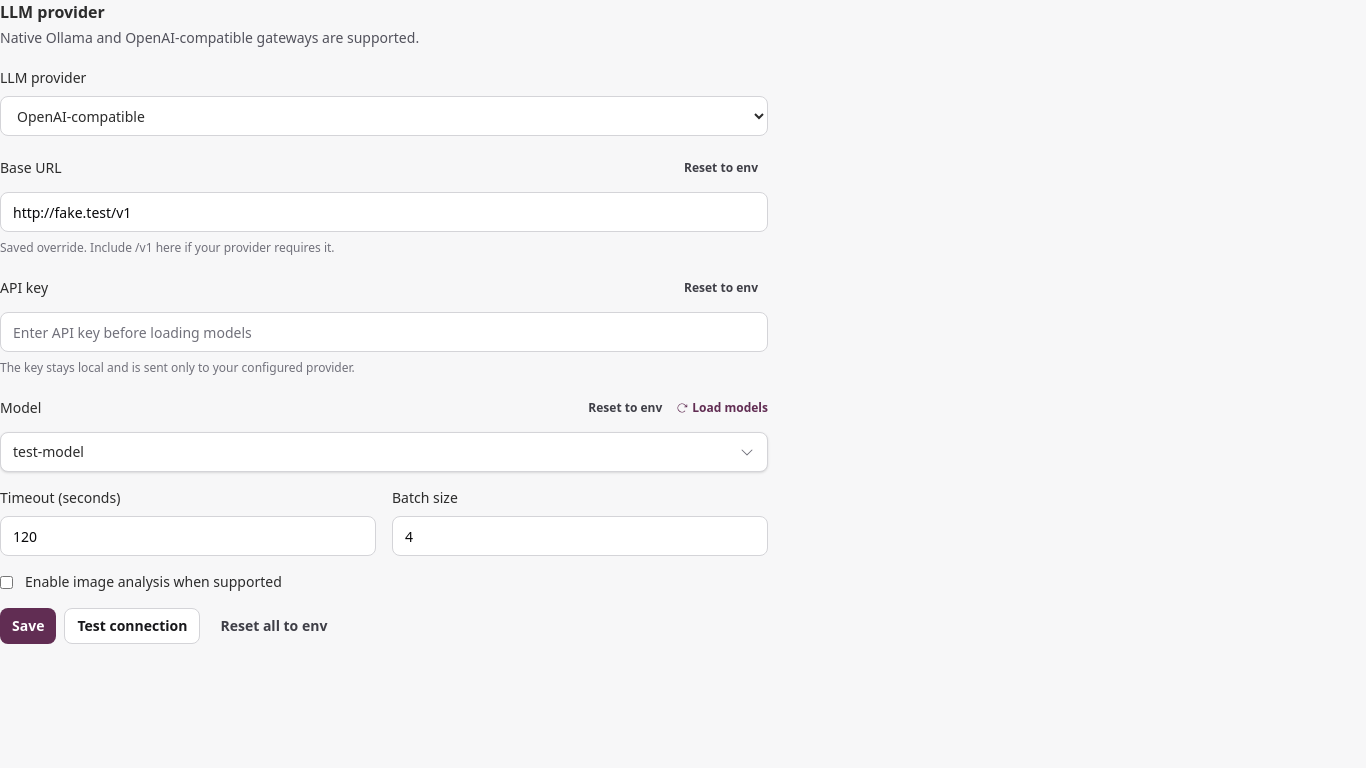
redesigned dashboard interactions (isolated, no live APIs) › shows failed checks and retry, and rejects an HTTP-success response without pong
Click the button "Test connection".
click(132, 626)  # box [64,608,200,644]
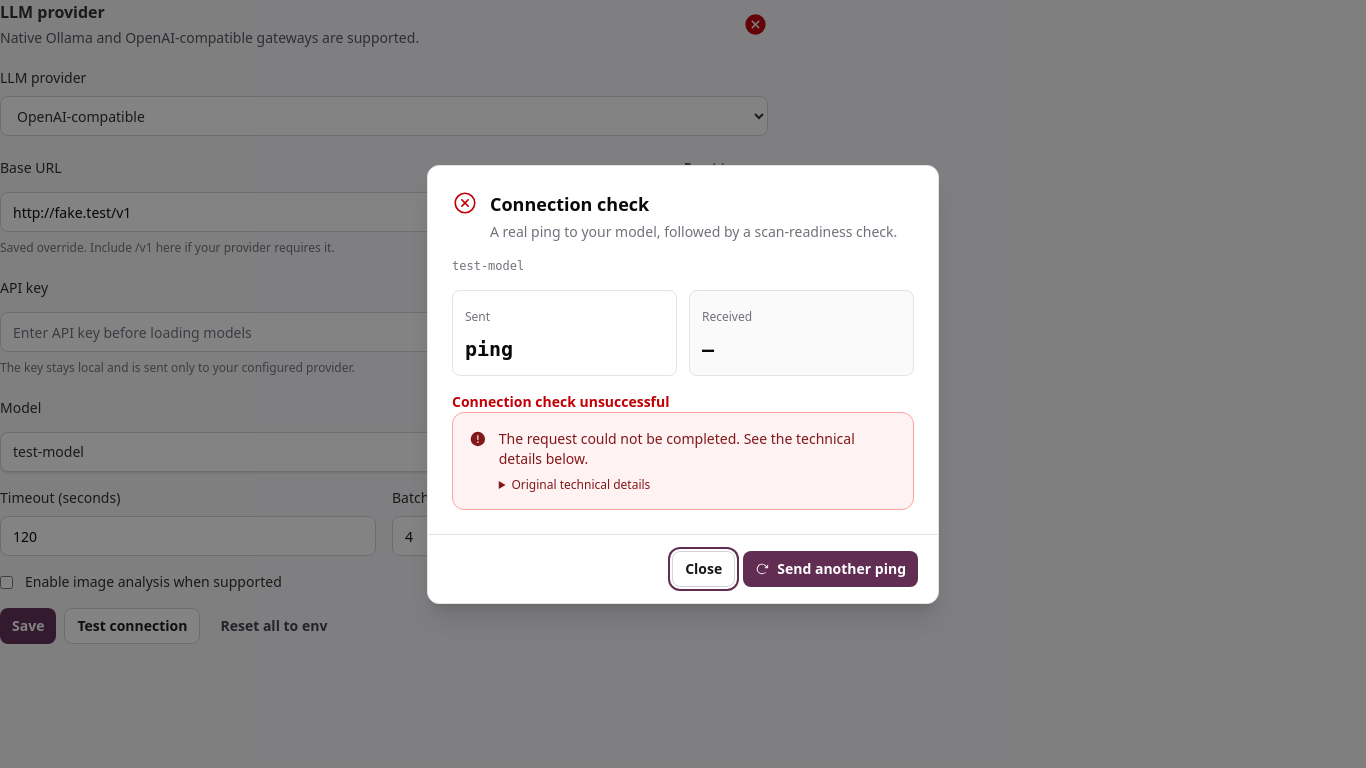
Click the button "Send another ping".
click(831, 568)  # box [743,550,918,586]
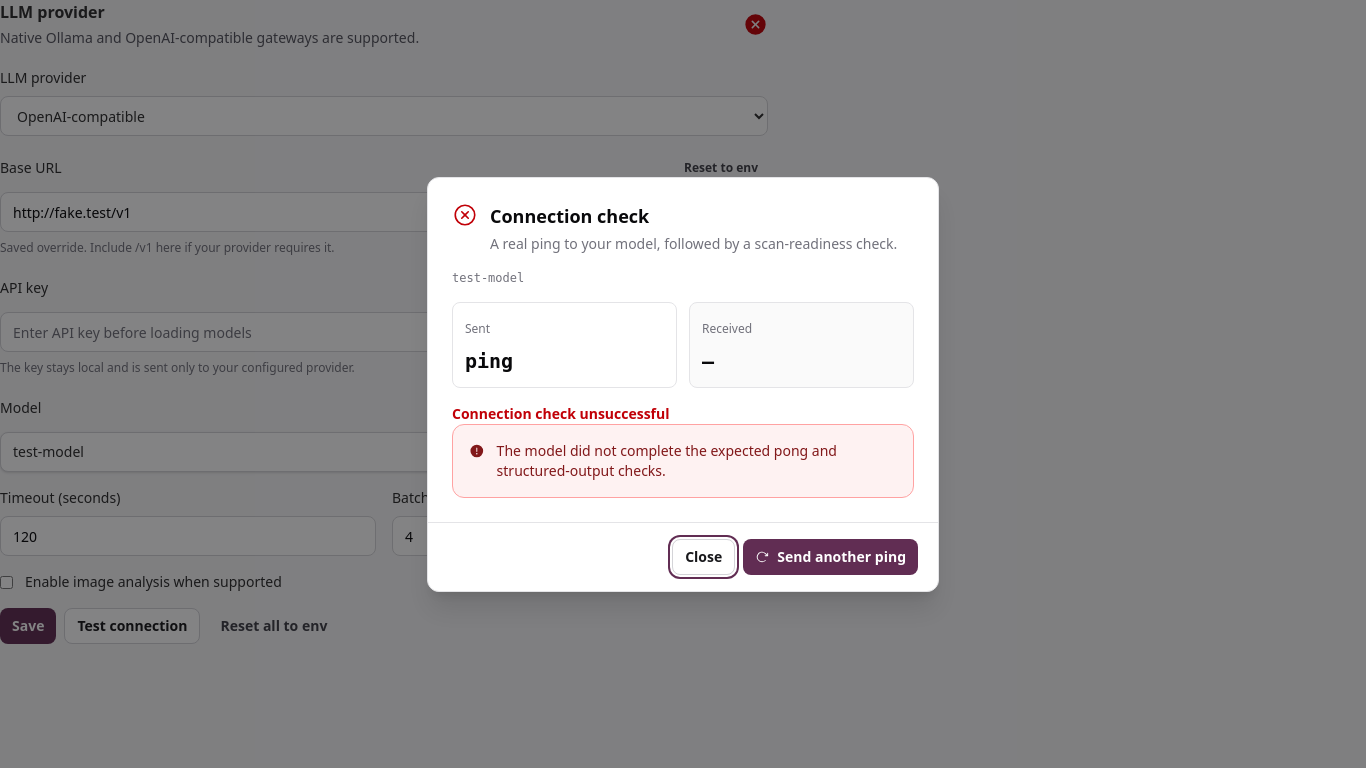
Expected: the message shows "expected pong", [497,440,837,480]
